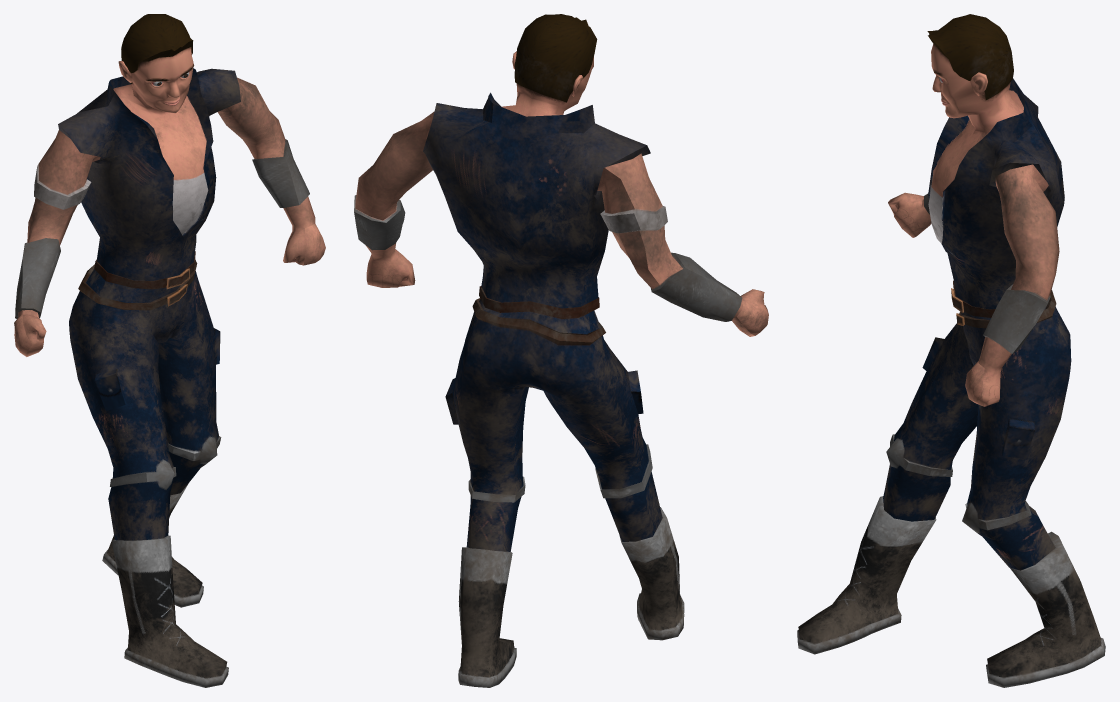
File: Anim_interruptor_jugador.0021.obj
The picture shows the model from 3 angles, left to right: view 1: azimuth 30°, elevation 25°; view 2: azimuth 150°, elevation 25°; view 3: azimuth 270°, elevation 25°; orthographic projection. The views are drawn at different scales.
Parts seen in each view (by area): view 1: polySurface1; view 2: polySurface1; view 3: polySurface1.
Part boxes in pixels (x1,y1,x2,y2): polySurface1: (14, 14, 325, 687); polySurface1: (354, 14, 768, 687); polySurface1: (797, 14, 1105, 687).
Bounding box in the file's own units: 5.5 × 9.35 × 4.09.
